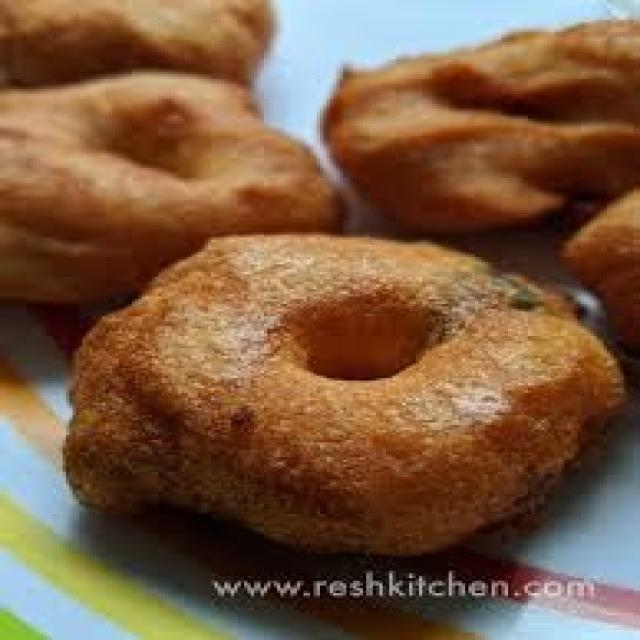medu vadai: (4, 5, 636, 560), (3, 1, 332, 307), (324, 19, 636, 232), (6, 0, 266, 90)
